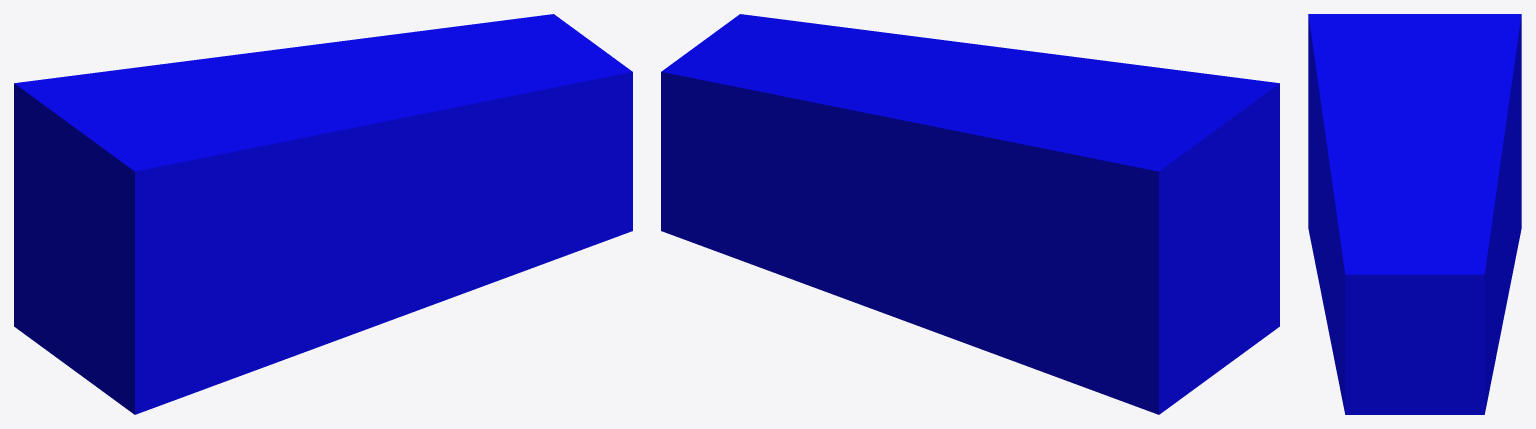
File: phys_player_upparm_blue.glb
3 renders of one model, left to right at view 1: azimuth 30°, elevation 25°; view 2: azimuth 150°, elevation 25°; view 3: azimuth 270°, elevation 25°, orthographic. The views are drawn at different scales.
Parts seen in each view (by area): view 1: Cube.002; view 2: Cube.002; view 3: Cube.002.
Part boxes in pixels (left/top/right/bottom): Cube.002: left=14, top=14, right=632, bottom=414; Cube.002: left=661, top=14, right=1279, bottom=414; Cube.002: left=1308, top=14, right=1521, bottom=414.
Size of the model in its own units: 1.93 by 0.8662 by 0.7794.
